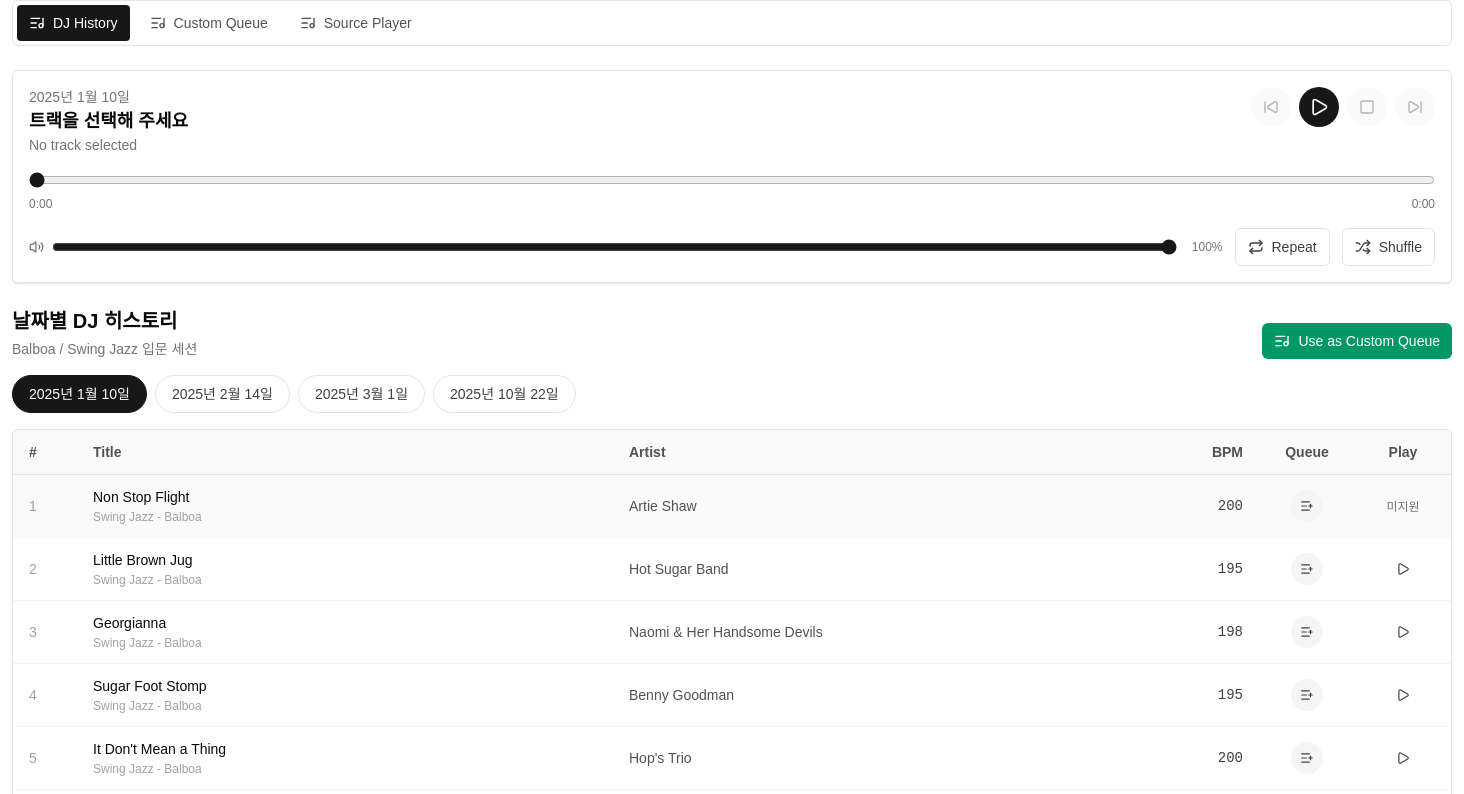
Test: MusicStudio › confirms before adding the same song from another date
Click the button named "Add Little Brown Jug to Custom Queue".
click(1307, 569)  # box [1291,553,1323,585]
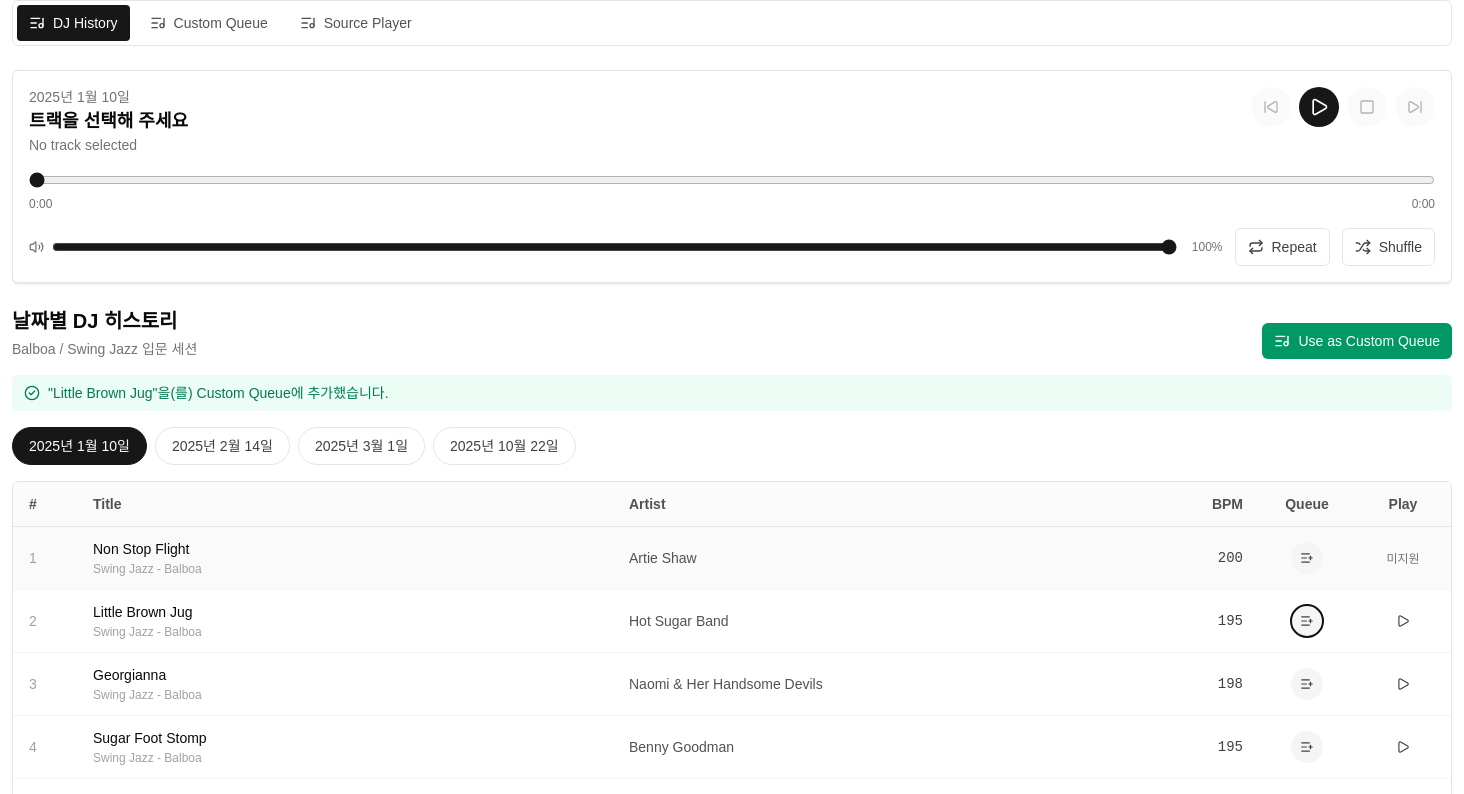
Click the button "2025년 2월 14일".
click(222, 446)  # box [155,427,290,465]
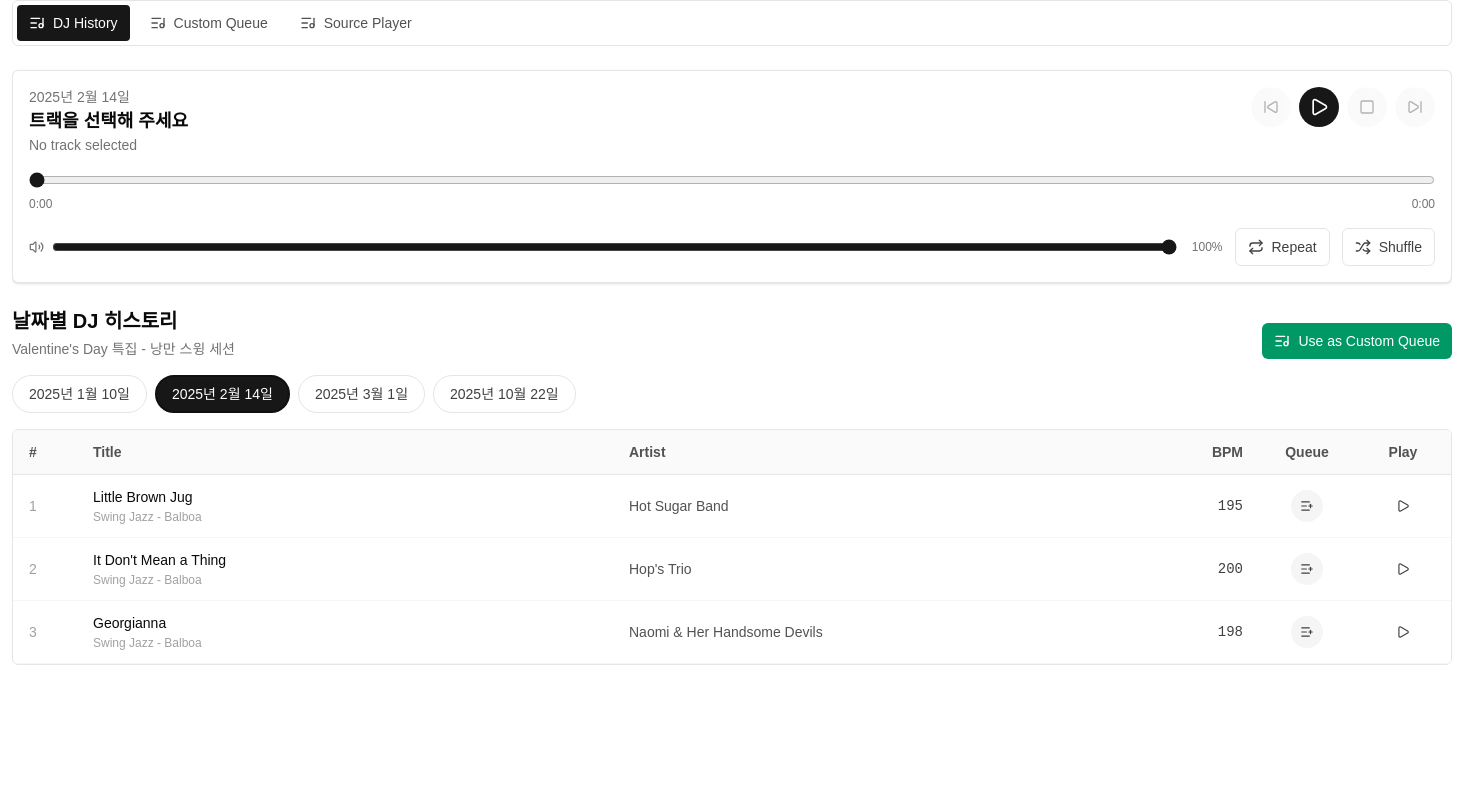
Click the button named "Add Little Brown Jug to Custom Queue".
click(1307, 506)  # box [1291,490,1323,522]
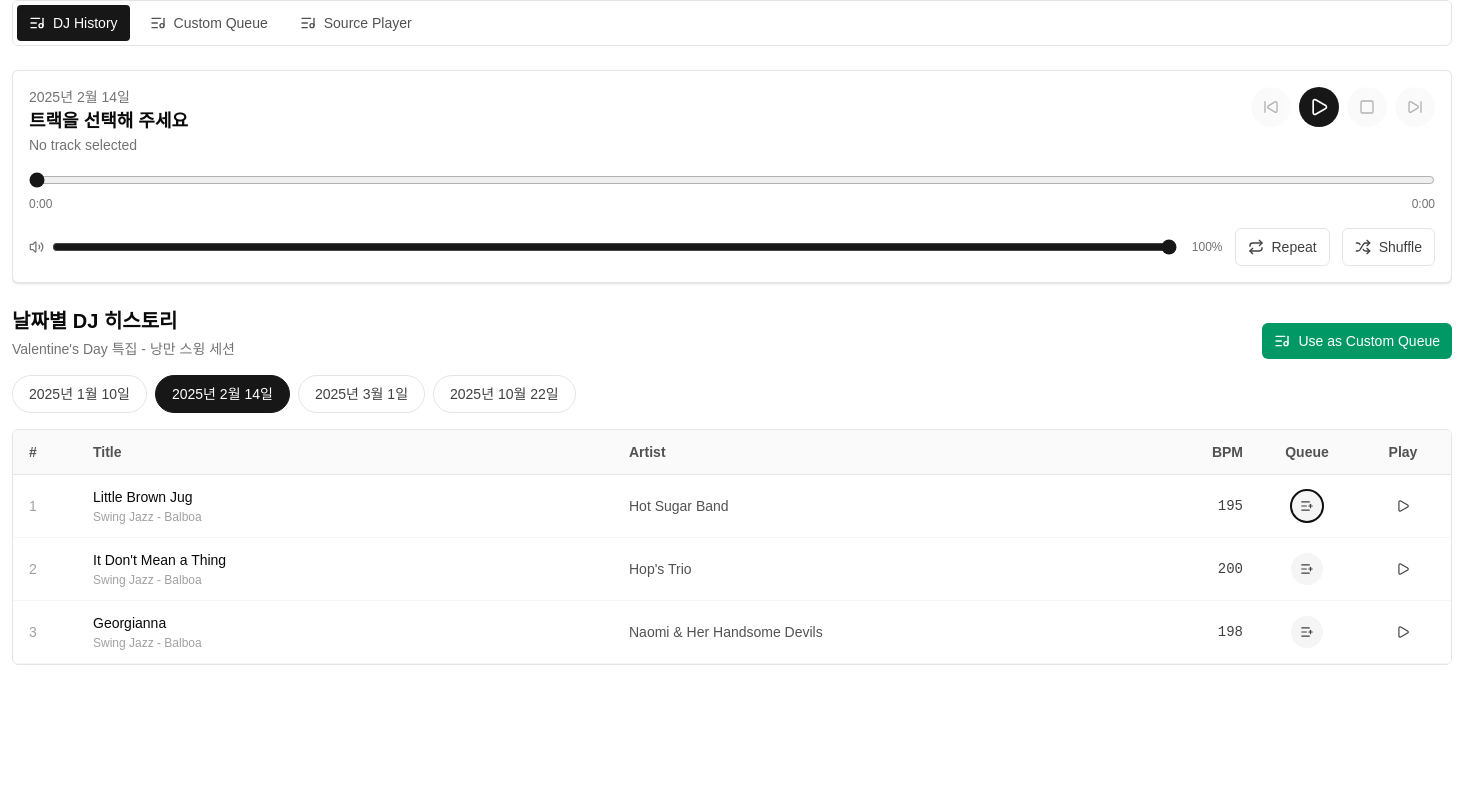
Click the button "Custom Queue".
click(209, 23)  # box [138,5,280,41]
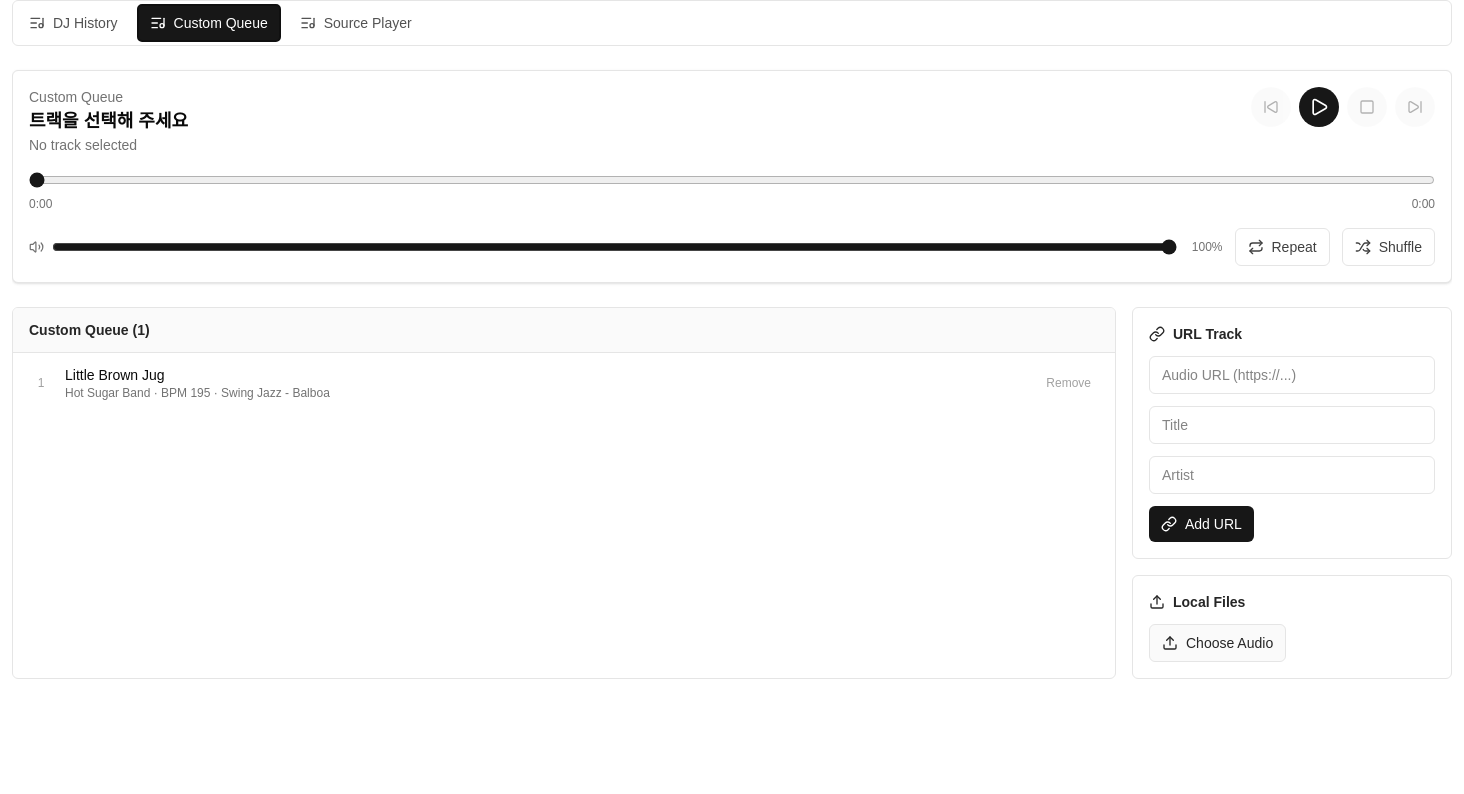
expect the heading "Custom Queue (1)" is shown: met, box [29,322,150,338]
